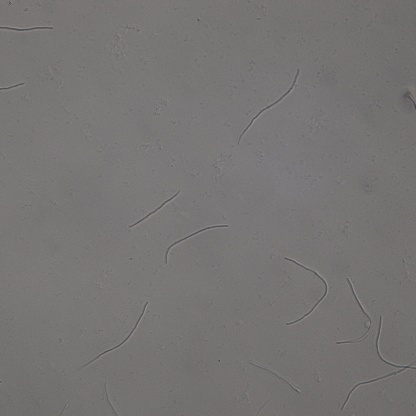Sensitive: (343, 315, 416, 409), (79, 300, 150, 370), (238, 69, 300, 146), (283, 256, 328, 330), (164, 223, 228, 263), (336, 278, 372, 345), (130, 188, 180, 228), (250, 361, 299, 392), (1, 21, 54, 34)
